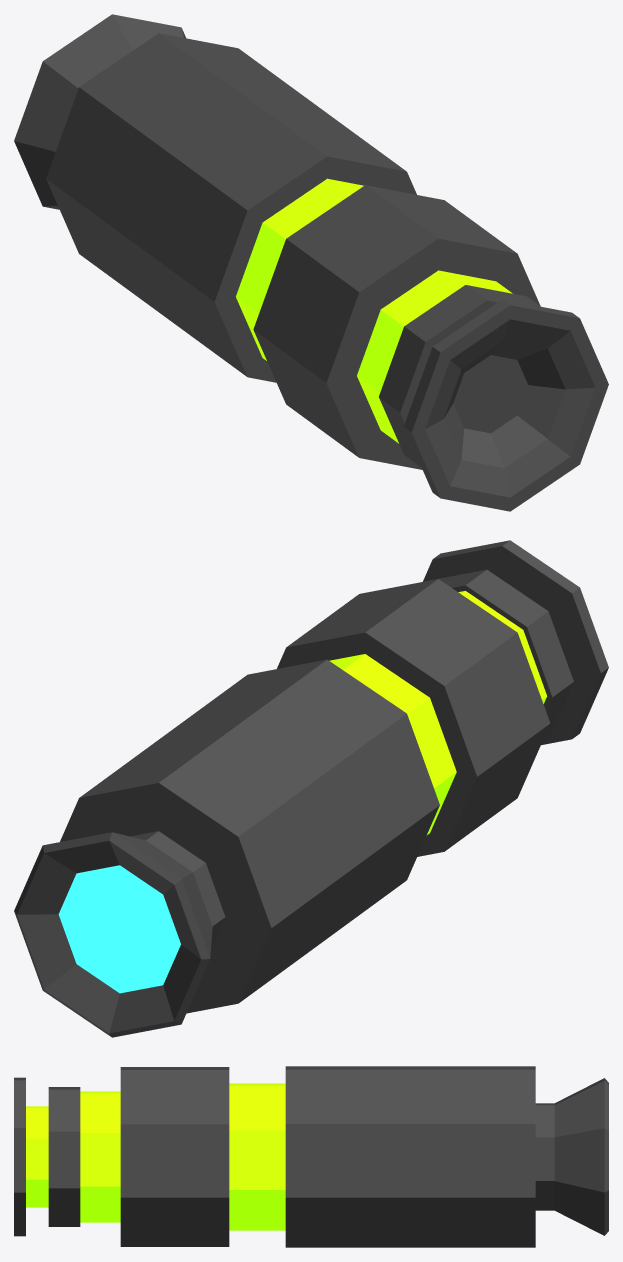
File: cannon.glb
3 renders of one model, top to bottom at view 1: azimuth 30°, elevation 25°; view 2: azimuth 150°, elevation 25°; view 3: azimuth 270°, elevation 25°, orthographic. The views are drawn at different scales.
Parts seen in each view (by area): view 1: Cylinder; view 2: Cylinder; view 3: Cylinder.
Part boxes in pixels (x1,y1,x2,y2): Cylinder: (14,14,608,511); Cylinder: (14,540,608,1037); Cylinder: (14,1066,608,1247).
Size of the model in its own units: 2.29 by 2.29 by 7.04.
